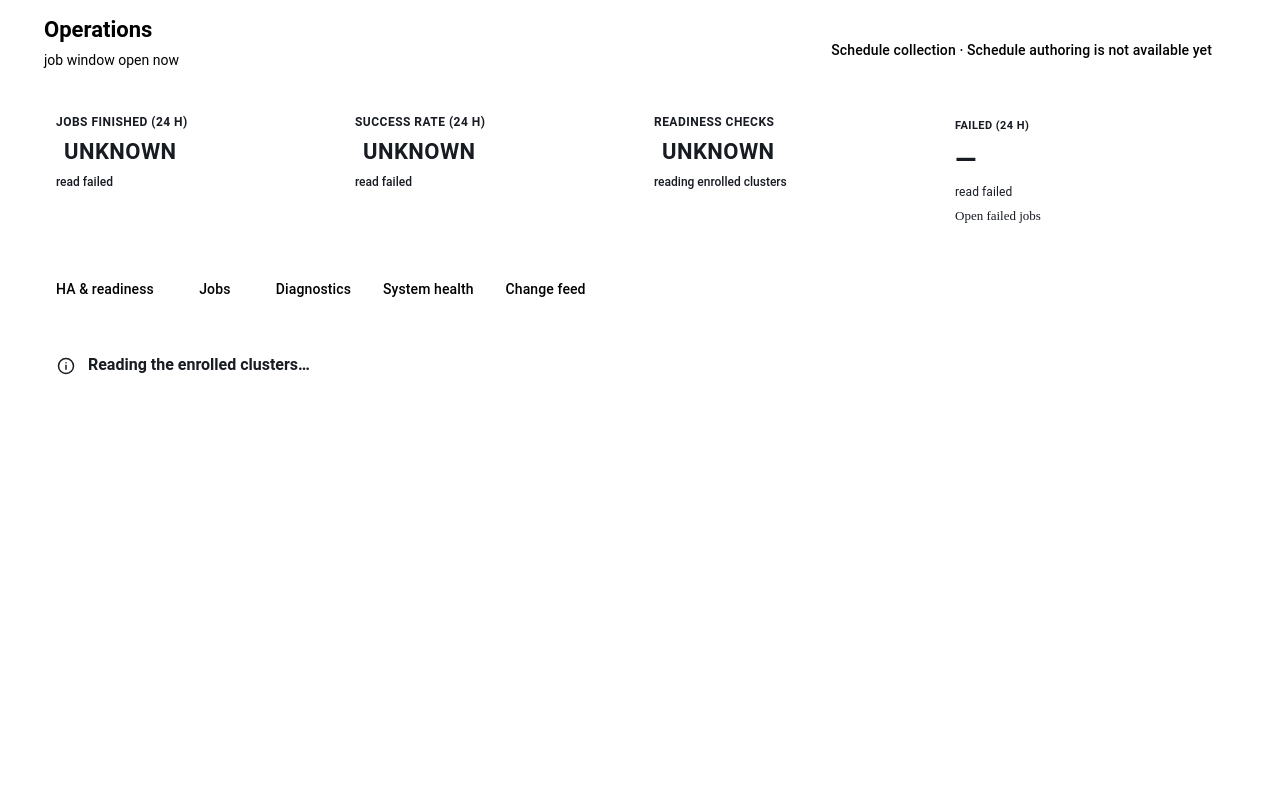
OperationsScreen tabs › links the Failed jobs KPI card to the Jobs table with its Failed pill pressed (roadmap 2.4)
Click the button "Open failed jobs" at [1078, 216], box [955,208,1202,224]
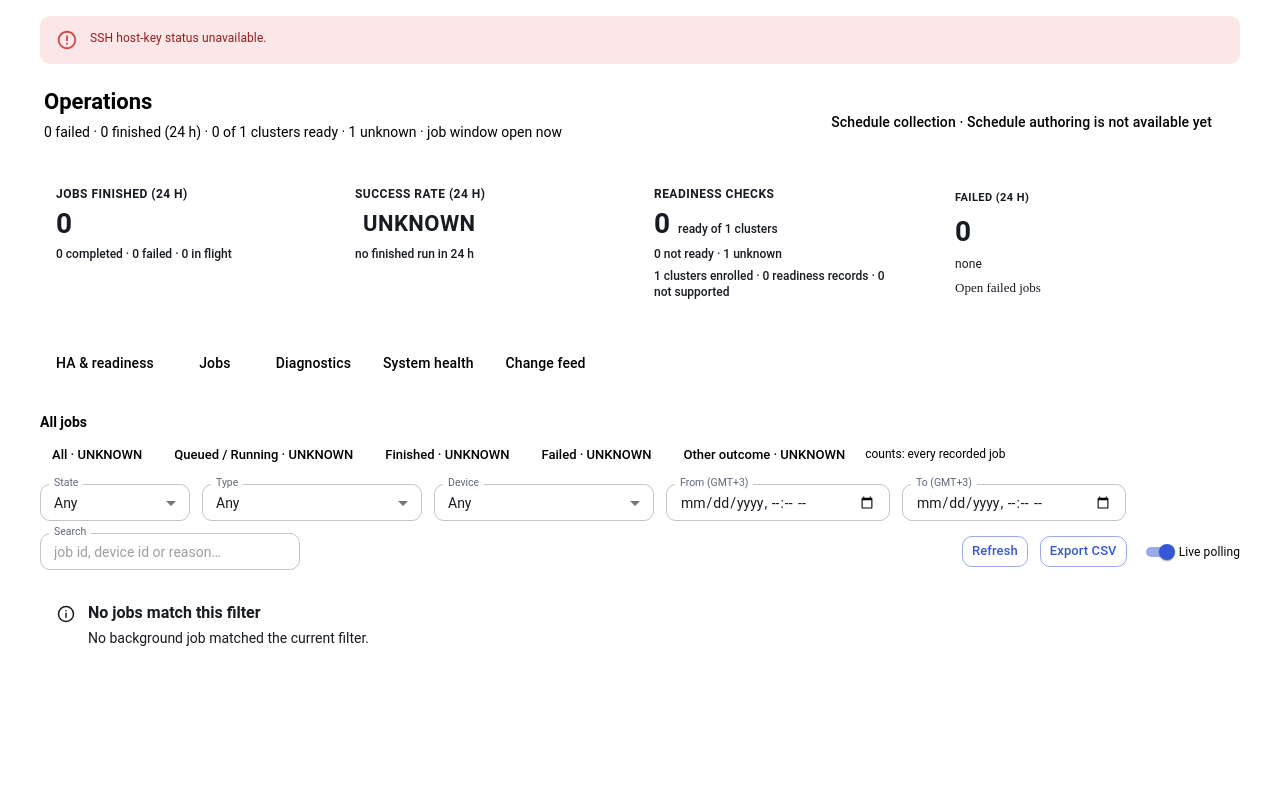
Now the heading "All jobs" is shown, box [40,414,87,430]
